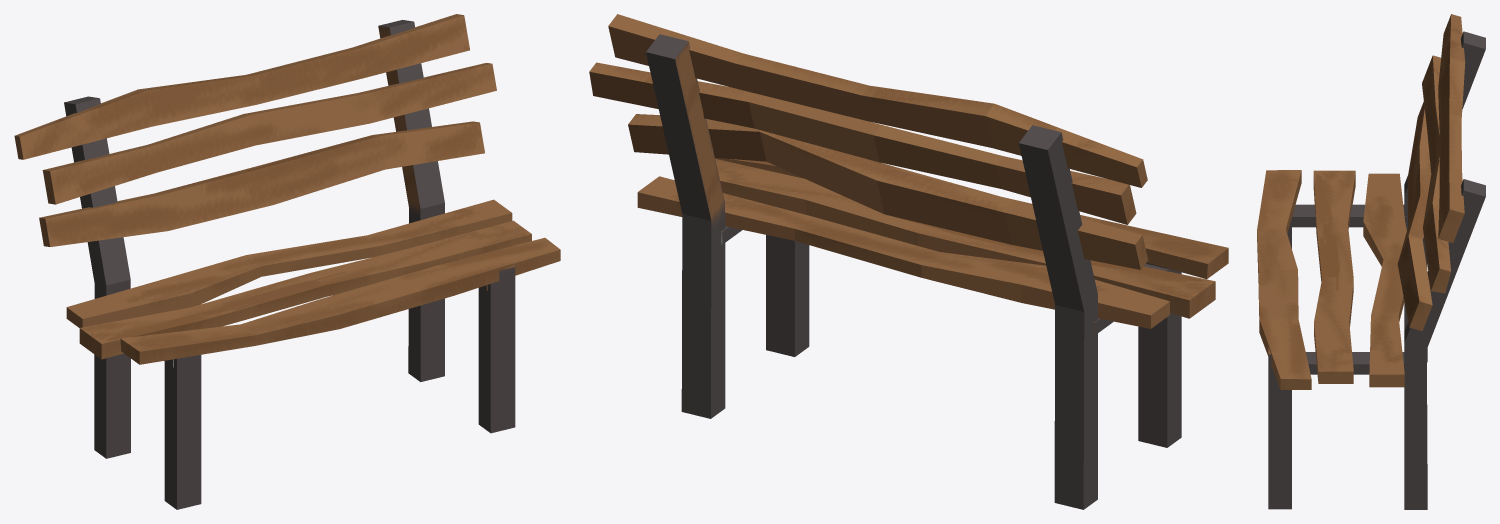
File: Bench_Main (1).fbx
3 renders of one model, left to right at view 1: azimuth 30°, elevation 25°; view 2: azimuth 150°, elevation 25°; view 3: azimuth 270°, elevation 25°, orthographic. The views are drawn at different scales.
Visible parts, largest first — view 1: Cube.005; view 2: Cube.005; view 3: Cube.005.
Boxes of the visible parts, <box> form: Cube.005: <box>14,14,560,509</box>; Cube.005: <box>589,14,1228,509</box>; Cube.005: <box>1257,14,1485,509</box>.
Size of the model in its own units: 139 by 95.68 by 61.48.
1 material, 1 textured.
